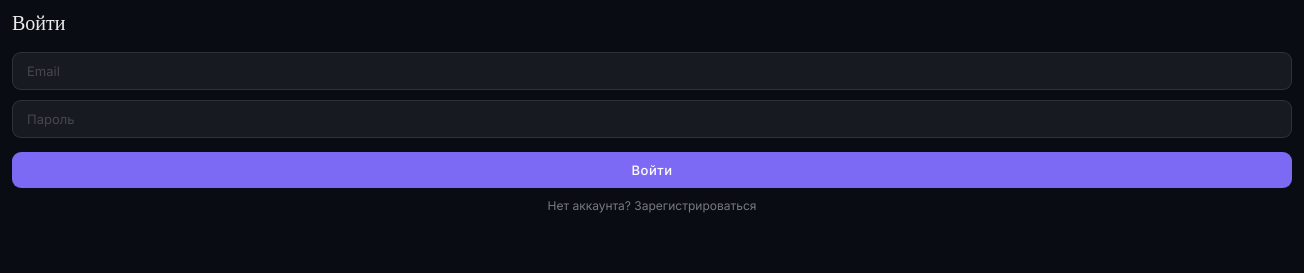
Test: AuthForm — валидация и взаимодействие › показывает ошибку при неверных данных входа
Type "wrong@test.com" into the field with placeholder "Email". click: coordinates (652, 71)
box: x1=12 y1=52 x2=1292 y2=90
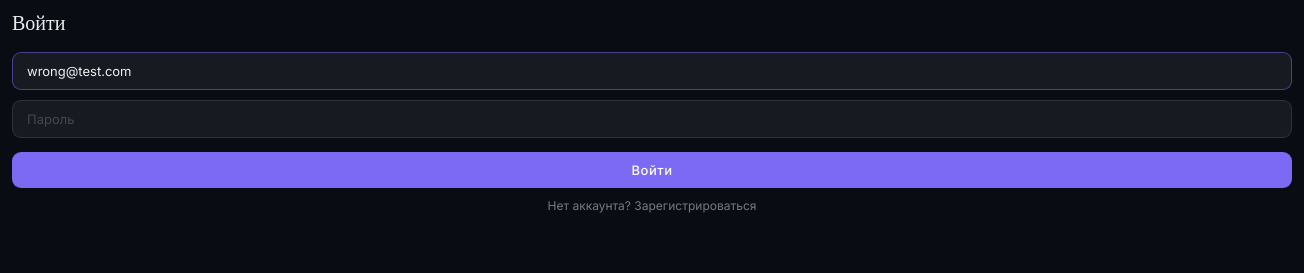
Type "wrongpass" into the password field with placeholder "Пароль". click: coordinates (652, 119)
box: x1=12 y1=100 x2=1292 y2=138
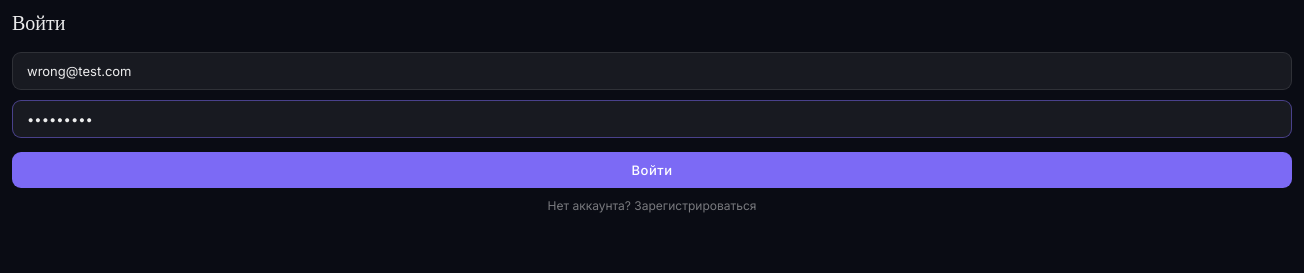
Click the button "Войти". click: coordinates (652, 170)
box: x1=12 y1=152 x2=1292 y2=188
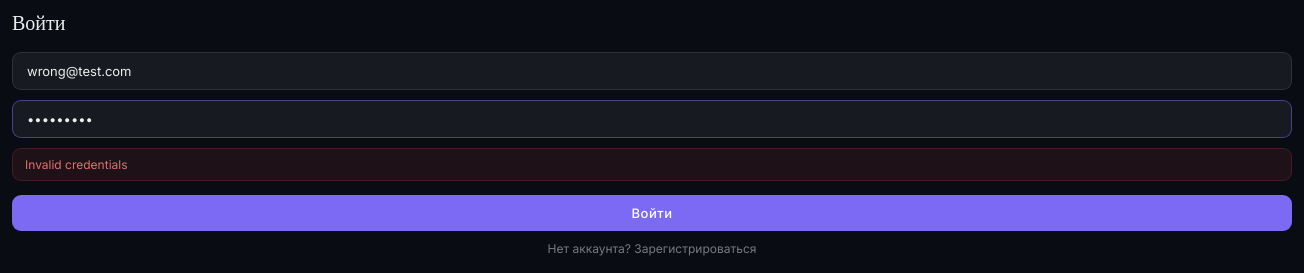
Check: the text "Invalid credentials" is shown, box x1=12 y1=148 x2=1292 y2=181
